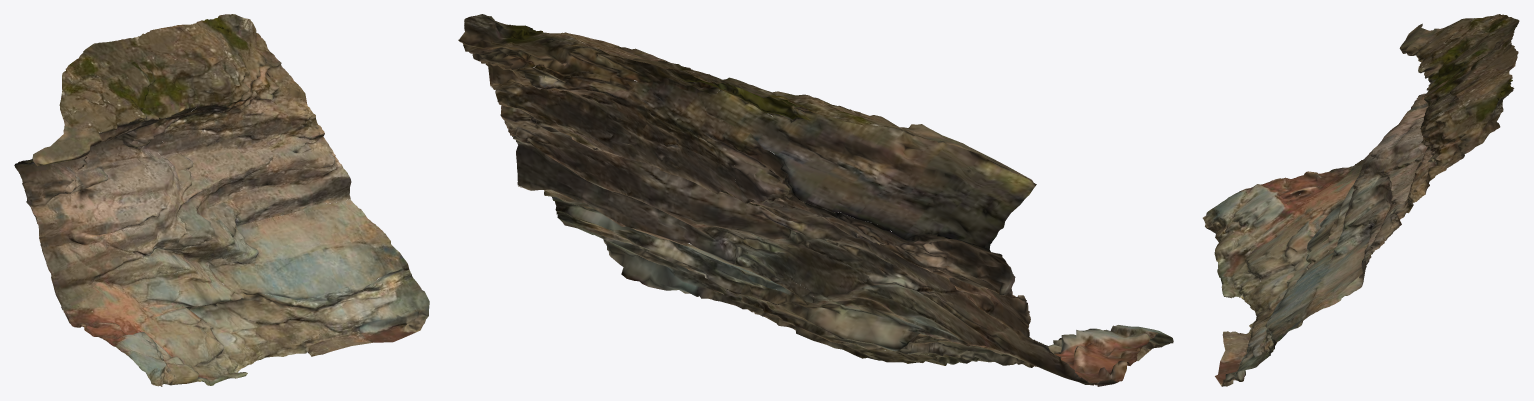
The model's file is rock_face_01.glb.
3 views of the same model, side by side, from view 1: azimuth 30°, elevation 25°; view 2: azimuth 150°, elevation 25°; view 3: azimuth 270°, elevation 25° (orthographic). The views are drawn at different scales.
Parts seen in each view (by area): view 1: rock_face_01; view 2: rock_face_01; view 3: rock_face_01.
Part boxes in pixels (<box>): rock_face_01: <box>14,14,429,386</box>; rock_face_01: <box>458,14,1173,386</box>; rock_face_01: <box>1202,14,1519,386</box>.
Bounding box in the file's own units: 4.95 × 3.56 × 3.83.
1 material, 1 textured.
